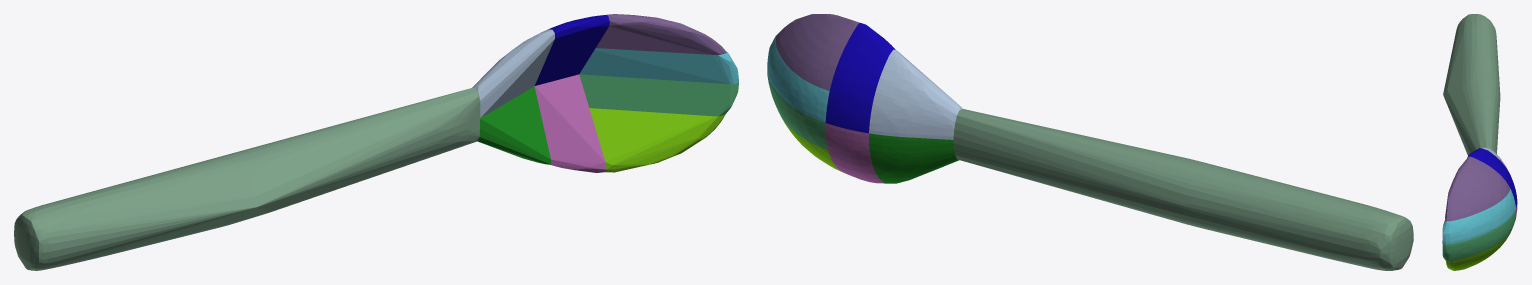
File: spoon_spatula.obj
3 renders of one model, left to right at view 1: azimuth 30°, elevation 25°; view 2: azimuth 150°, elevation 25°; view 3: azimuth 270°, elevation 25°, orthographic. The views are drawn at different scales.
Visible parts, largest first — view 1: geometry_0, geometry_4, geometry_3, geometry_7, geometry_2, geometry_1, geometry_8, geometry_6, geometry_5; view 2: geometry_0, geometry_6, geometry_5, geometry_1, geometry_8, geometry_2, geometry_7, geometry_3, geometry_4; view 3: geometry_0, geometry_1, geometry_2, geometry_3, geometry_5, geometry_4, geometry_6.
Part boxes in pixels (left/top/right/bottom): geometry_0: left=14, top=87, right=480, bottom=270; geometry_4: left=589, top=108, right=725, bottom=172; geometry_3: left=579, top=74, right=738, bottom=116; geometry_7: left=534, top=74, right=606, bottom=172; geometry_2: left=579, top=48, right=738, bottom=84; geometry_1: left=596, top=14, right=726, bottom=54; geometry_8: left=477, top=86, right=550, bottom=164; geometry_6: left=472, top=29, right=554, bottom=117; geometry_5: left=534, top=15, right=609, bottom=85; geometry_0: left=953, top=109, right=1413, bottom=270; geometry_6: left=869, top=49, right=962, bottom=139; geometry_5: left=825, top=23, right=895, bottom=133; geometry_1: left=776, top=14, right=859, bottom=90; geometry_8: left=869, top=133, right=959, bottom=183; geometry_2: left=767, top=36, right=829, bottom=122; geometry_7: left=825, top=123, right=885, bottom=183; geometry_3: left=767, top=73, right=828, bottom=149; geometry_4: left=782, top=119, right=841, bottom=171; geometry_0: left=1443, top=14, right=1500, bottom=155; geometry_1: left=1445, top=156, right=1510, bottom=221; geometry_2: left=1442, top=189, right=1515, bottom=244; geometry_3: left=1442, top=209, right=1515, bottom=261; geometry_5: left=1467, top=148, right=1517, bottom=208; geometry_4: left=1446, top=232, right=1510, bottom=270; geometry_6: left=1482, top=147, right=1508, bottom=171.
Size of the model in its own units: 0.3516 by 0.0769 by 0.0502.
